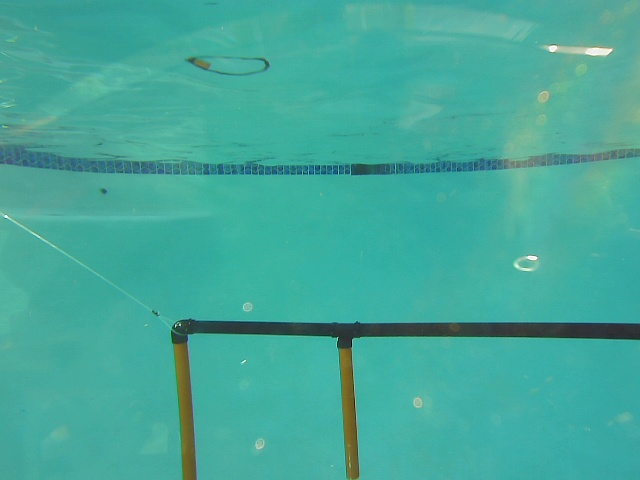Gate: (168, 335, 198, 480), (335, 339, 363, 480)
